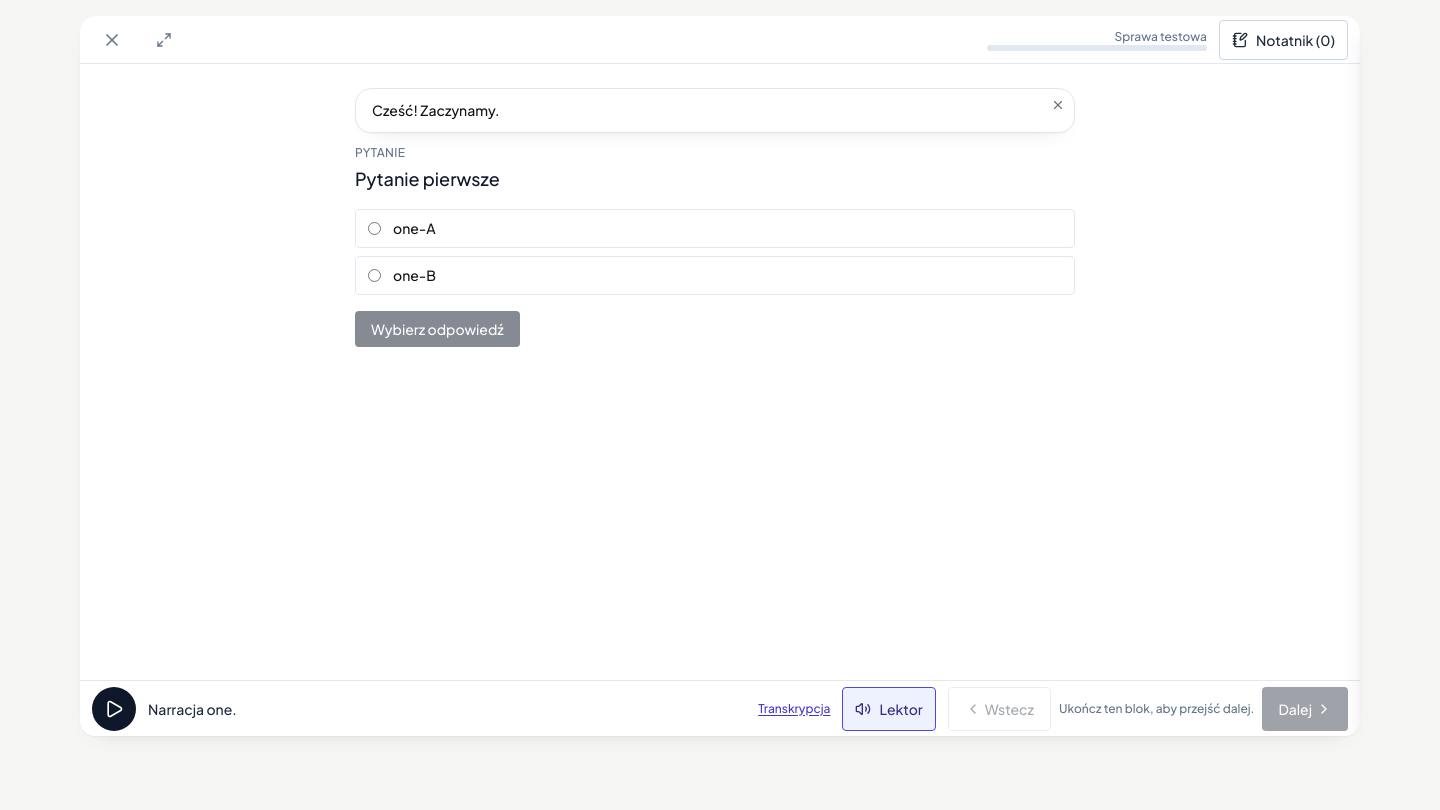
Test: CoursePlayer: powłoka (postęp, nawigacja, notatnik, lektor) › notatnik › pusty notatnik pokazuje podpowiedź
The image size is (1440, 810).
Click the button "Notatnik (0)". click: (1283, 40)
box: top-left (1219, 20), bottom-right (1348, 60)
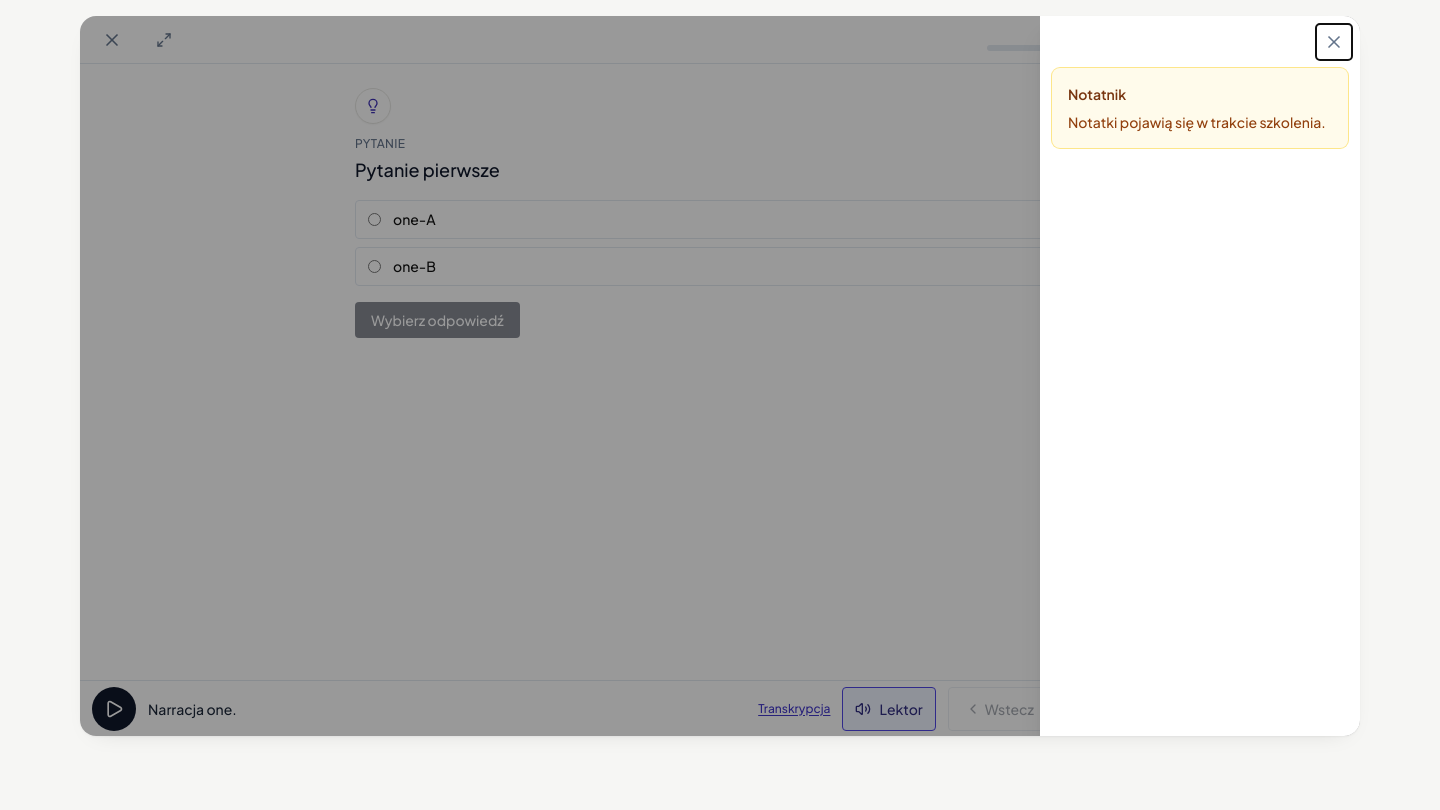
Result: the text "Notatki pojawią się w trakcie szkolenia." is shown at top-left (1068, 112), bottom-right (1332, 132)
